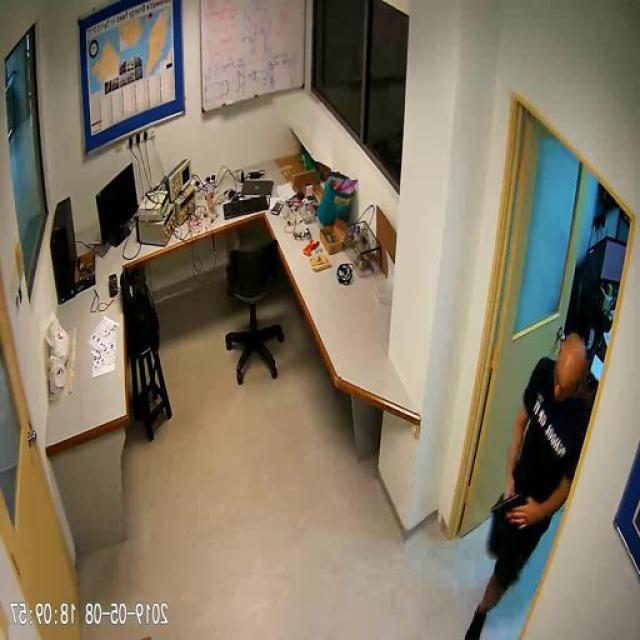Gun: (492, 486, 530, 526)
